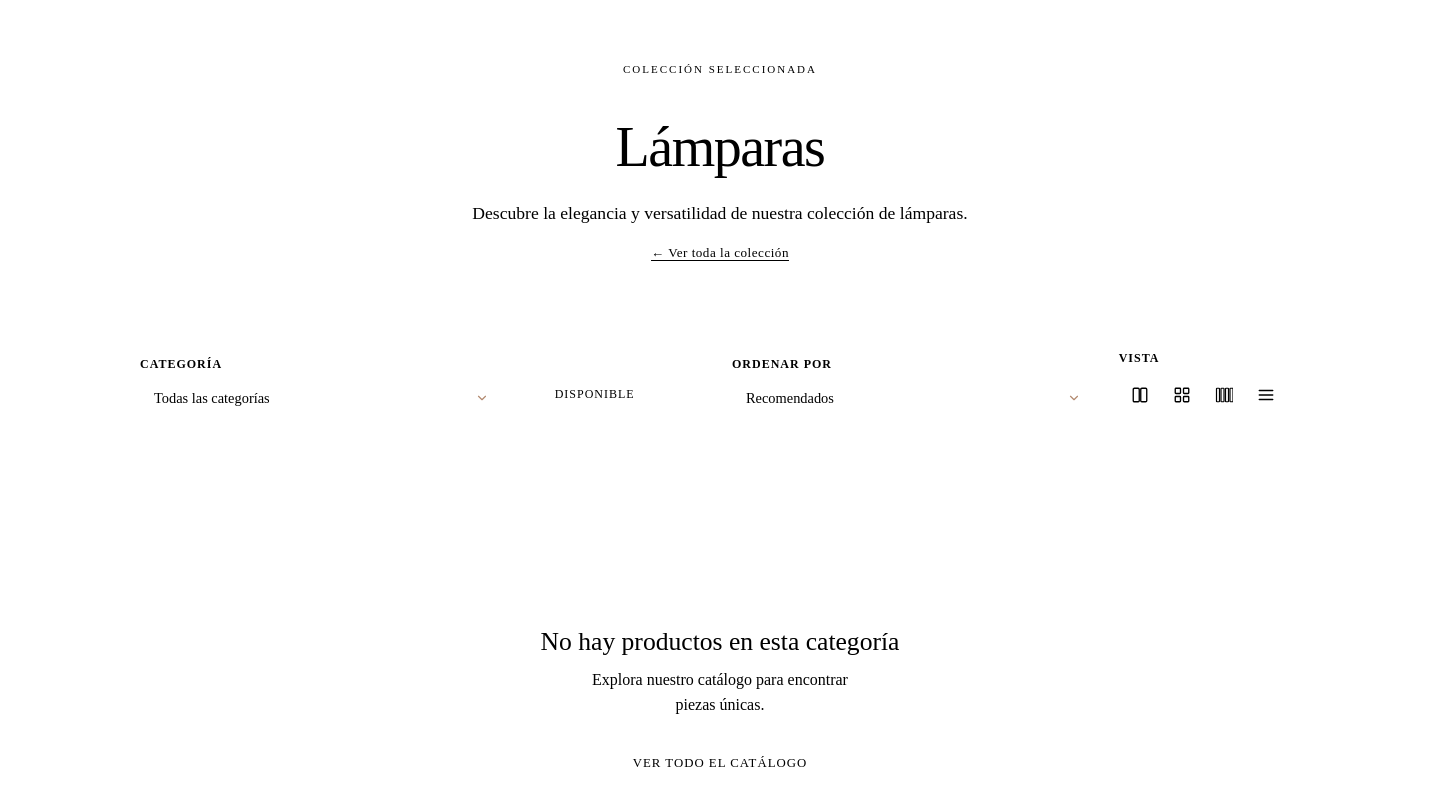
Test: Catálogo — estados vacíos (H40) › una categoría sin piezas ofrece "Ver todo el catálogo", que quita el filtro y enseña todo
Expected: the heading "No hay productos en esta categoría" is shown, [540,627,899,657]
Click the button "Ver todo el catálogo": (720, 764) [601,742,839,785]
(page scrolled)
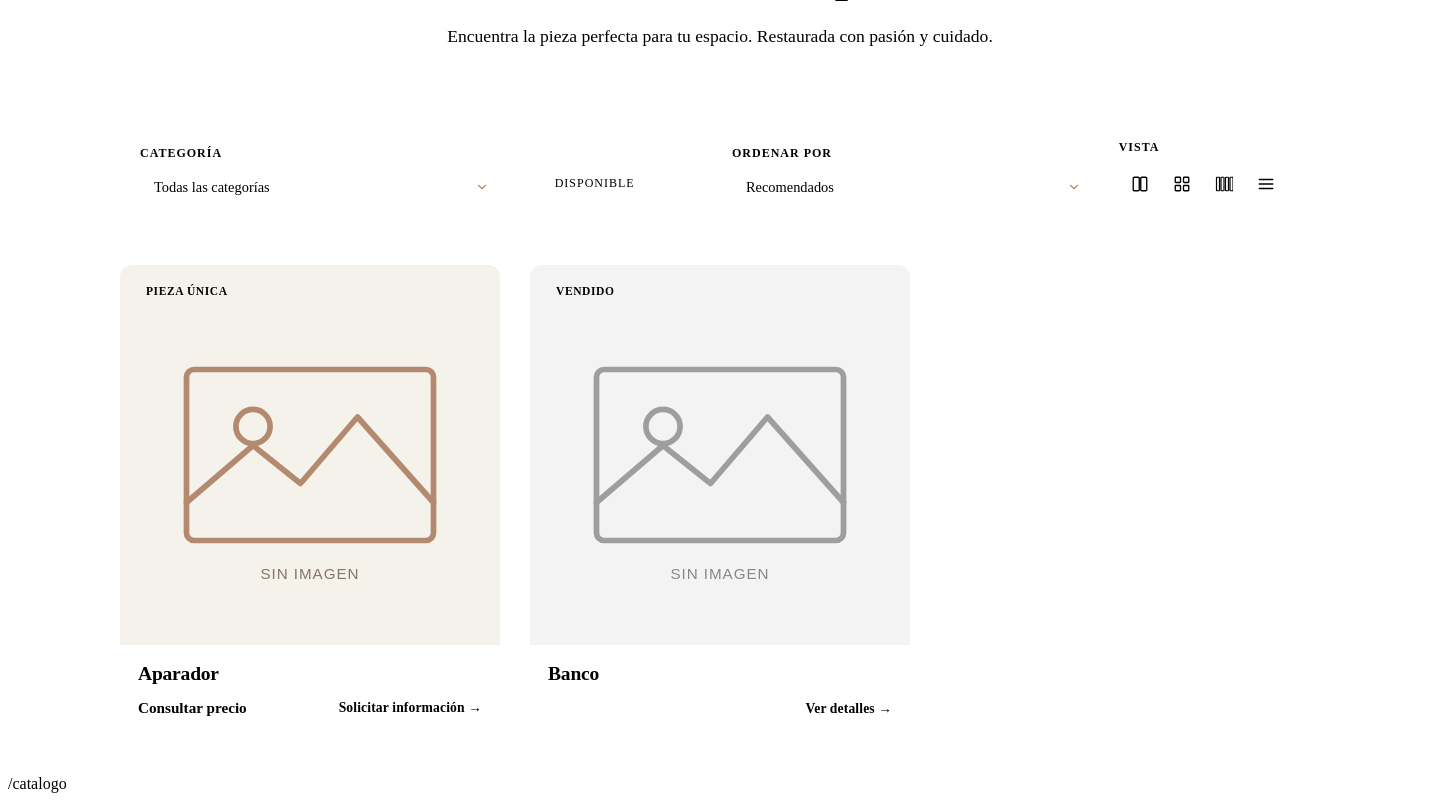
Result: the text with test id "ruta" reads "/catalogo" at [8,775,67,792]
Result: the heading "Aparador" is shown at [138,663,219,684]
Result: the heading "Banco" is shown at [548,663,599,684]
